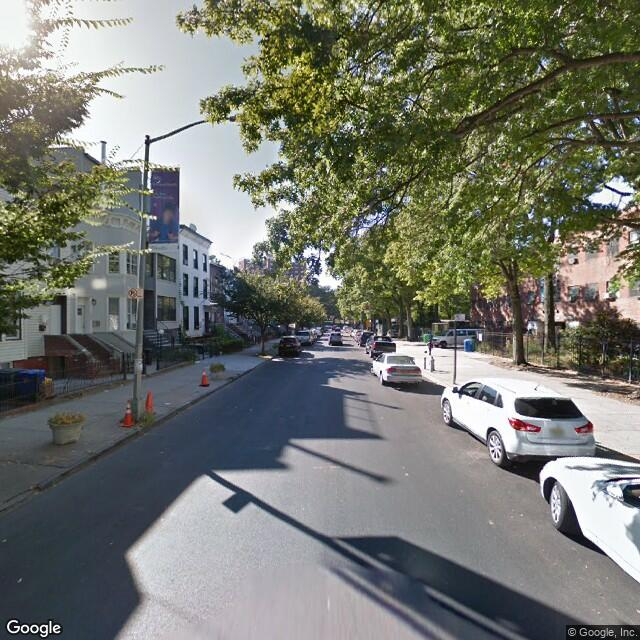litter: (163, 399, 172, 407)
